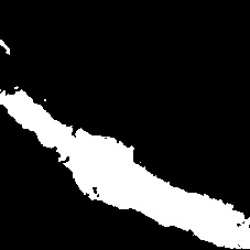crack: (1, 87, 247, 249), (3, 40, 14, 57)
